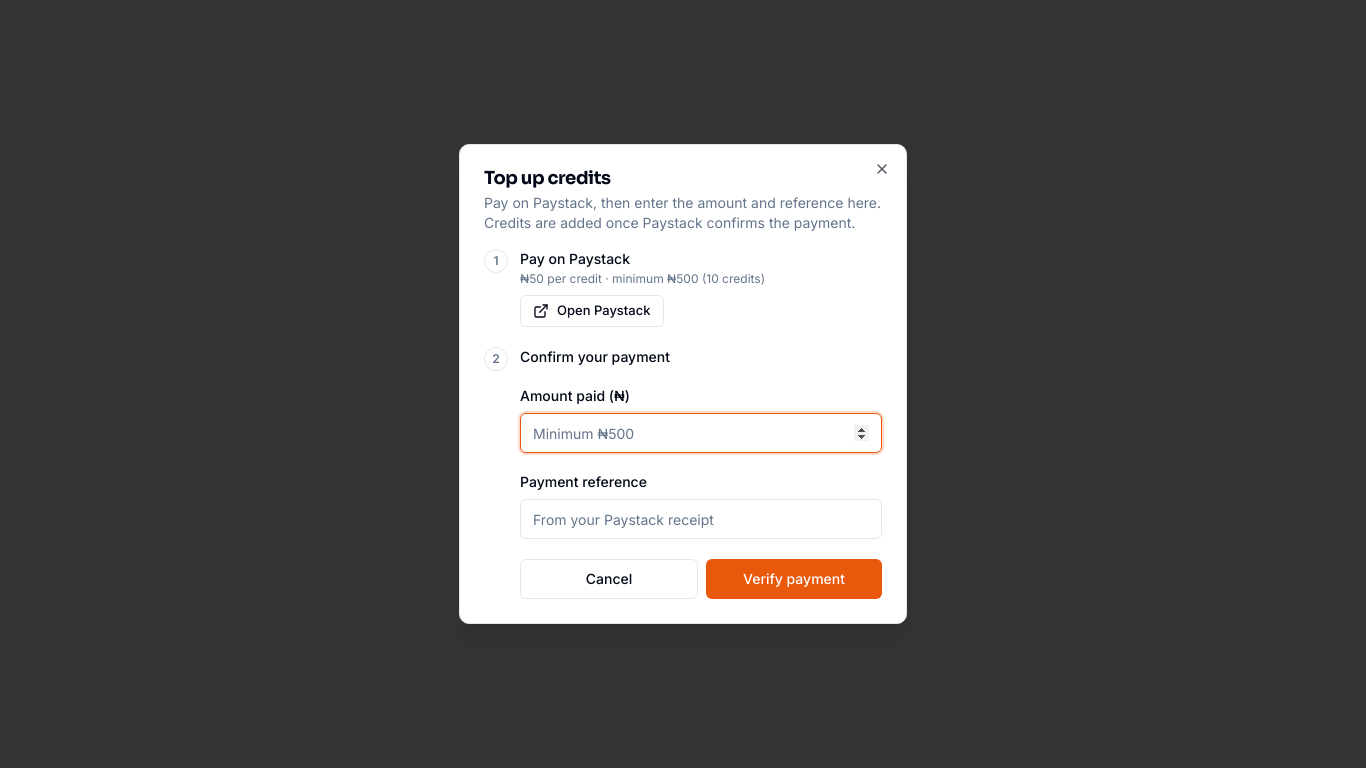
Test: TopUpCreditsModal › shows the server's error message when verification fails
Type "1000" into the number field labelled "Amount paid (₦)" at (701, 433), box x1=520 y1=413 x2=882 y2=453
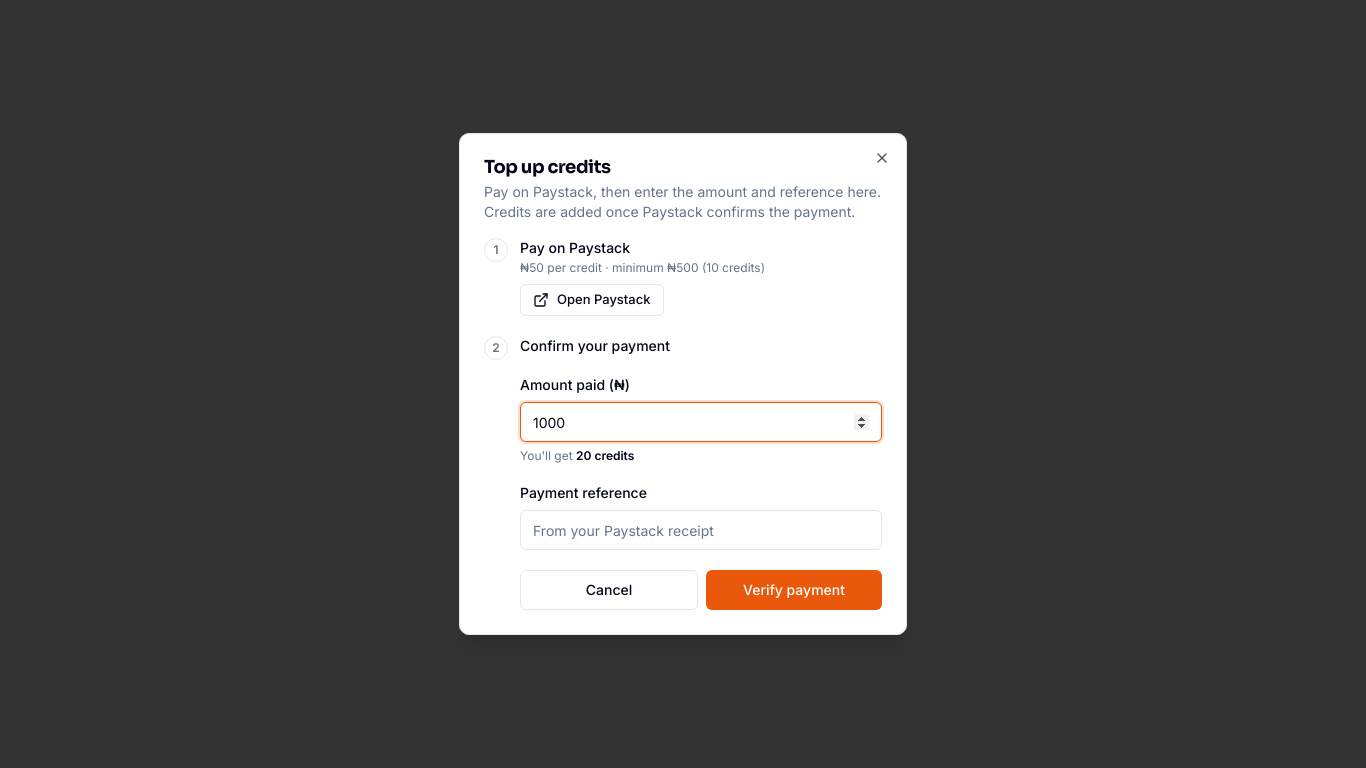
Type "ref-abc" into the field labelled "Payment reference" at (701, 530), box x1=520 y1=510 x2=882 y2=550
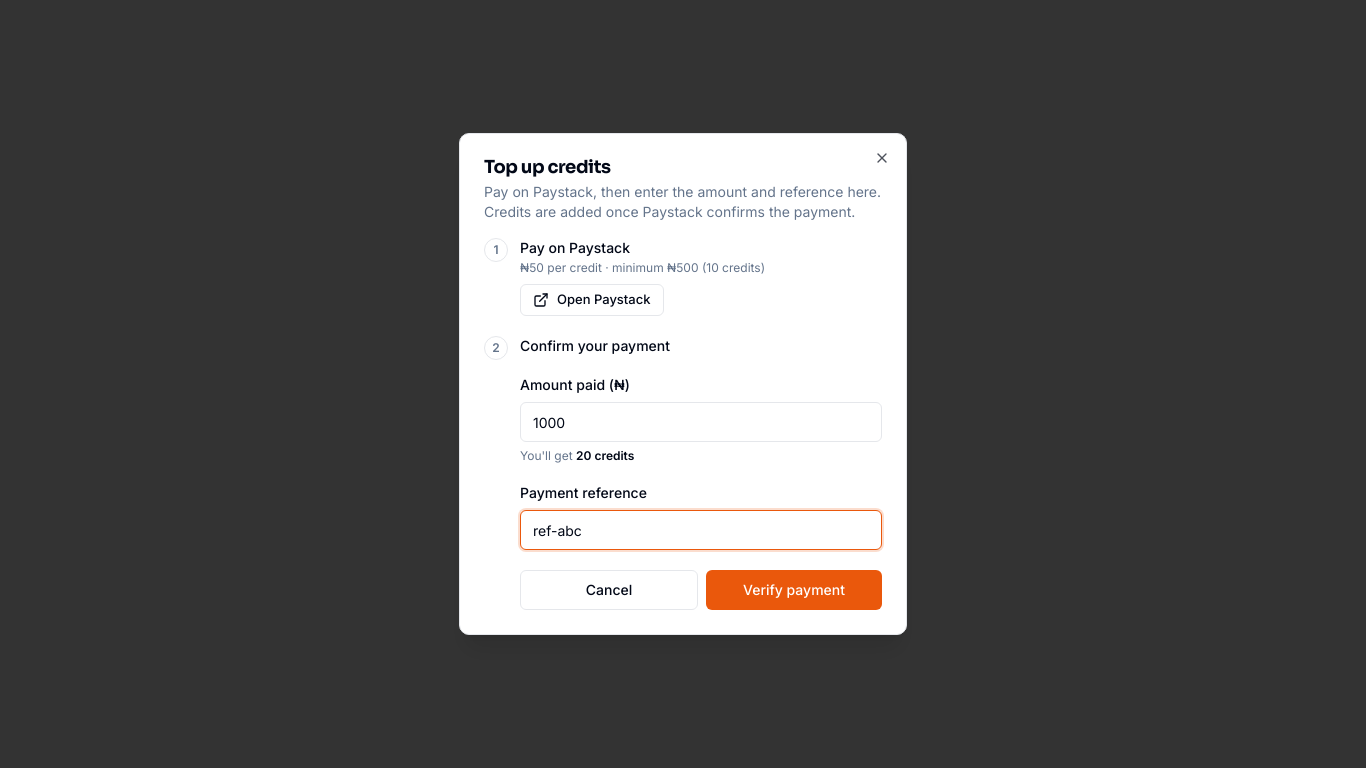
Click the button "Verify payment" at (794, 590), box x1=706 y1=570 x2=882 y2=610
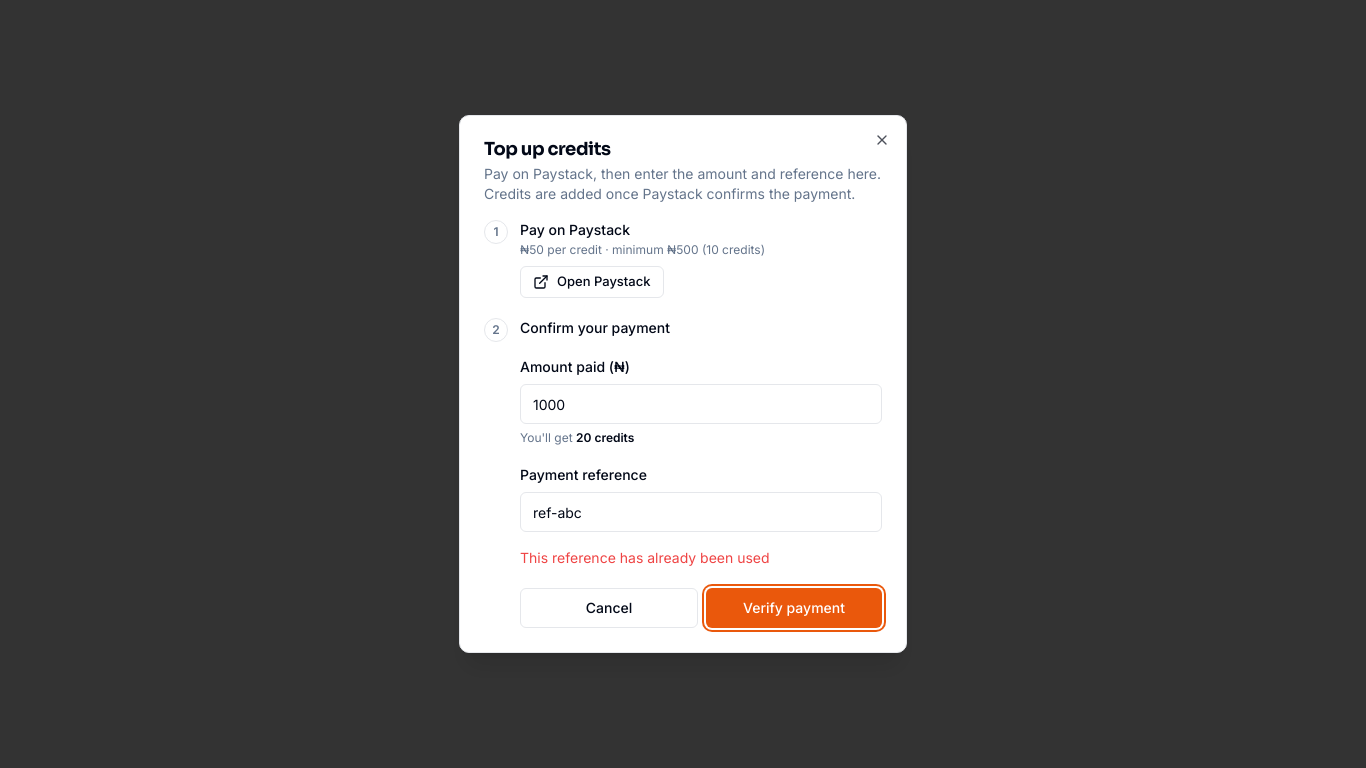
Check: the text "This reference has already been used" is shown, box x1=520 y1=549 x2=770 y2=566
